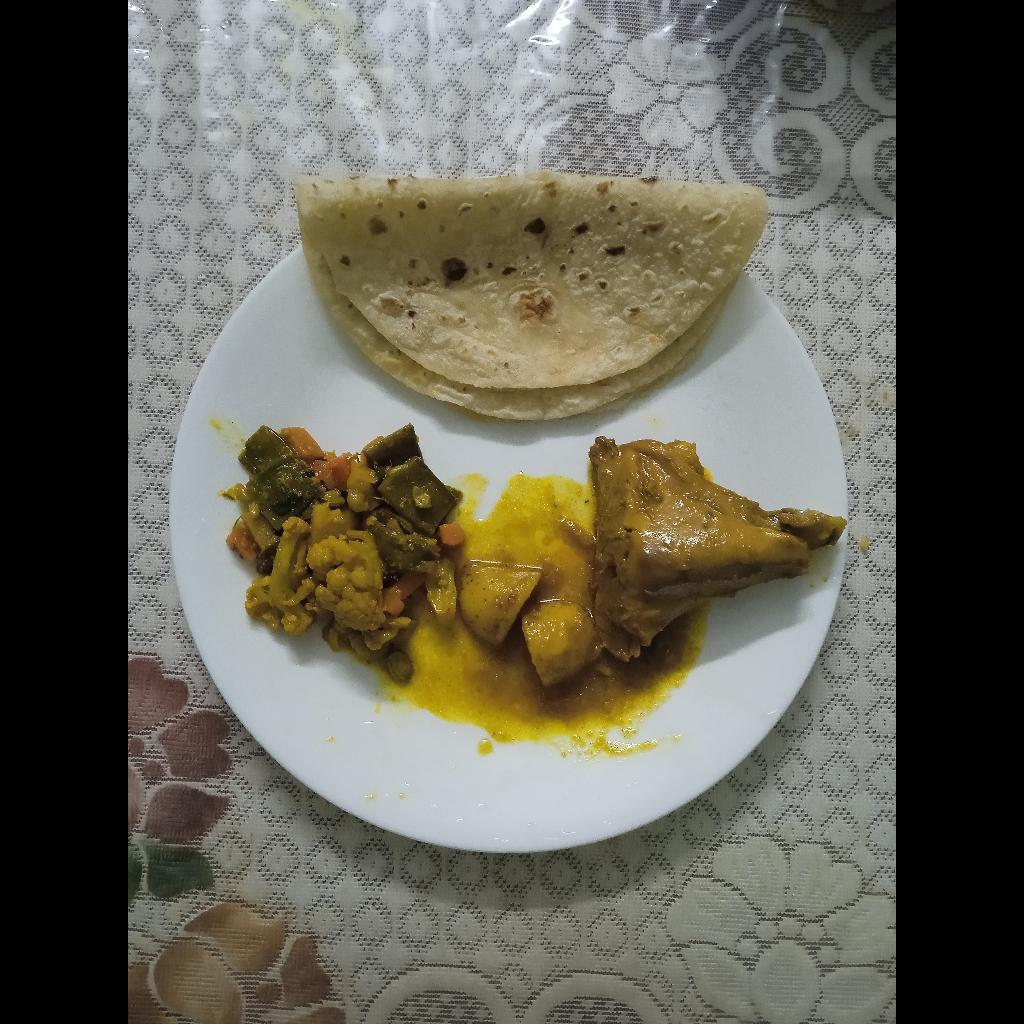chicken: (589, 434, 845, 662)
potato: (460, 558, 602, 688)
ruti: (295, 169, 769, 420)
vegetable: (222, 421, 465, 663)
